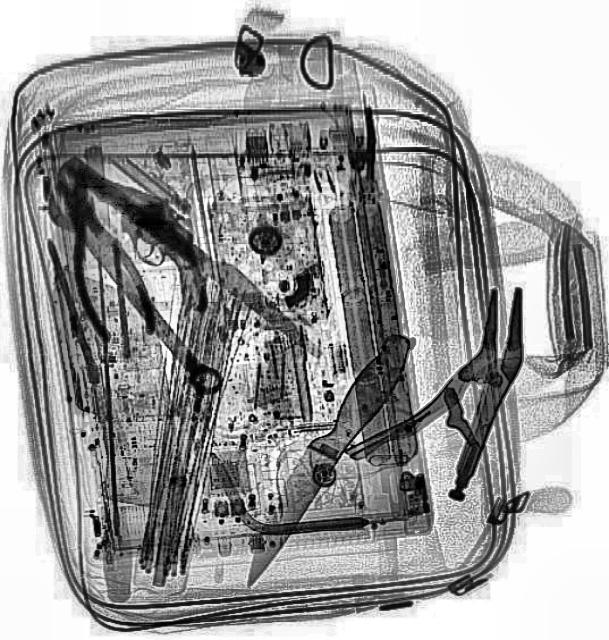Gun: (29, 148, 242, 314)
Knife: (58, 144, 332, 364), (226, 323, 420, 594)
Pliers: (34, 167, 164, 347)
Wrench: (35, 171, 236, 403)
